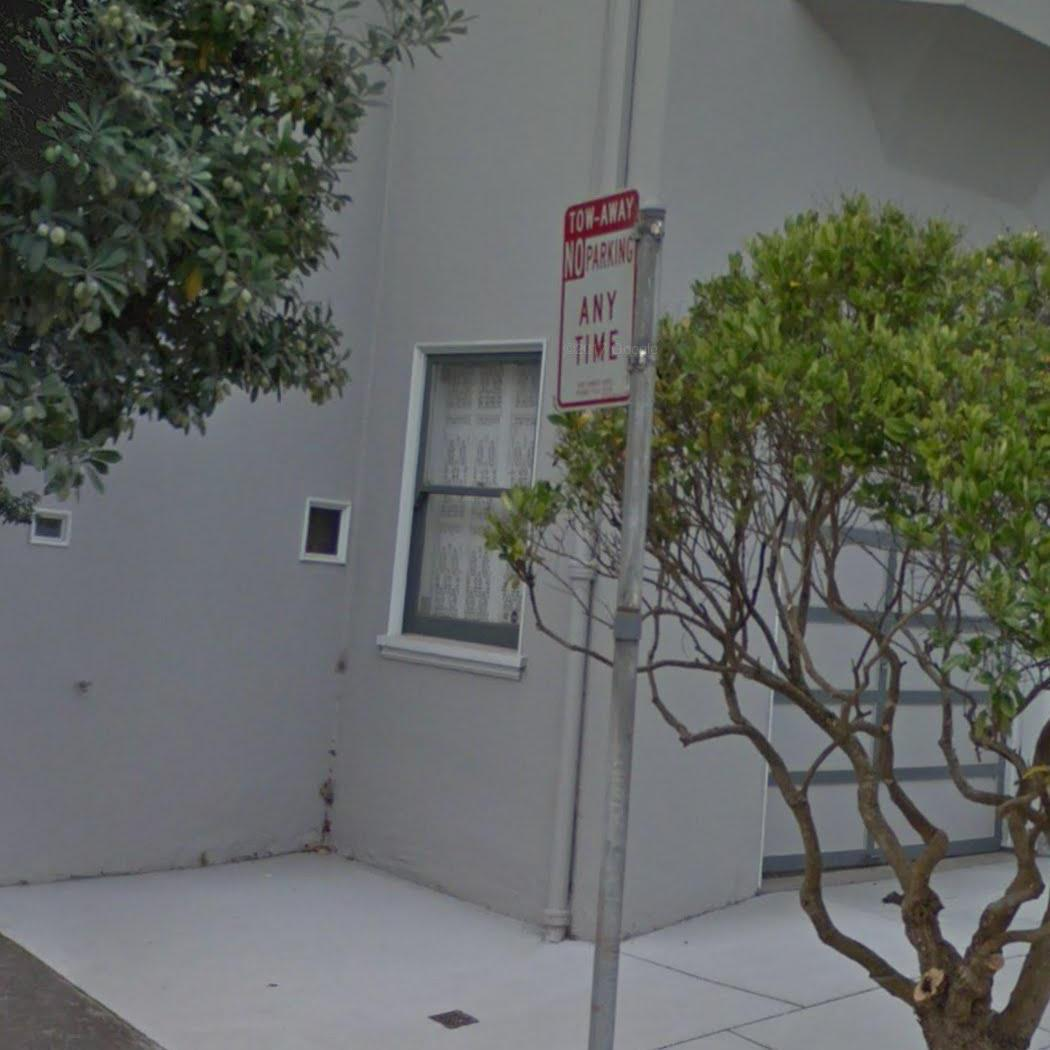No Parking Anytime: (553, 187, 648, 415)
